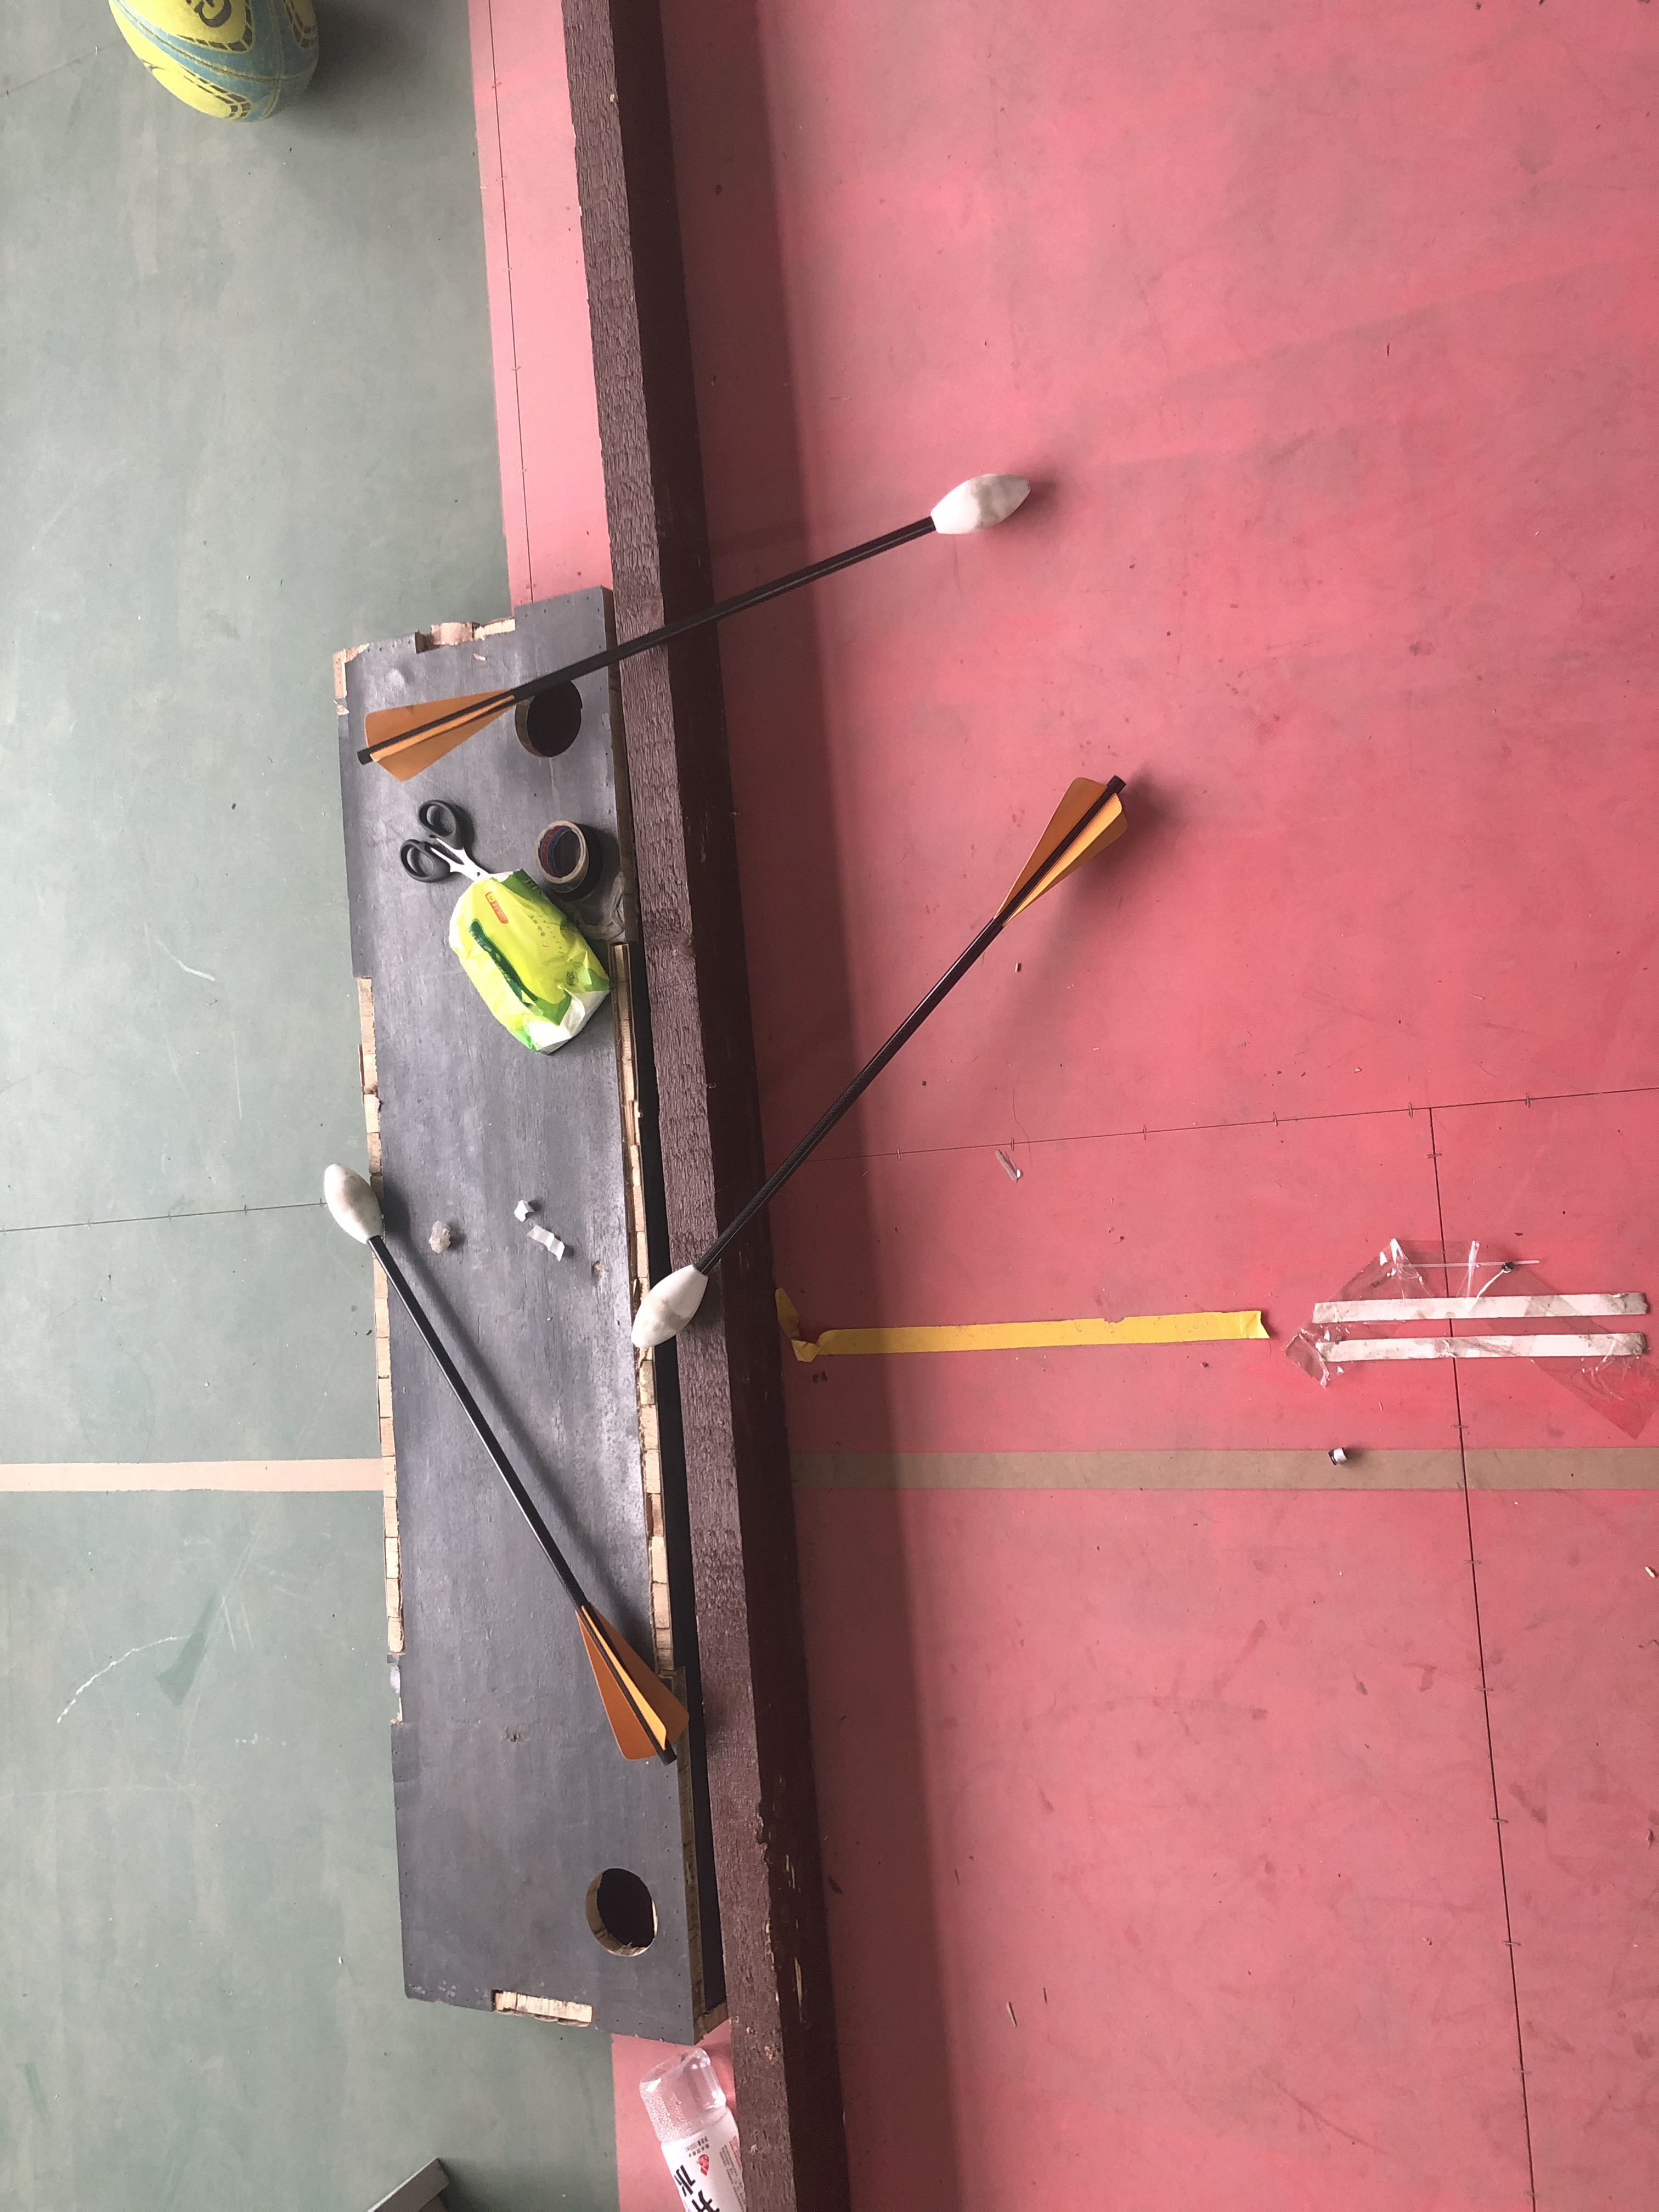arrow: (626, 782, 1127, 1352), (314, 1150, 692, 1773), (359, 465, 1033, 782)
arrowFront: (627, 1259, 713, 1350), (925, 474, 1037, 540), (324, 1160, 387, 1244)
